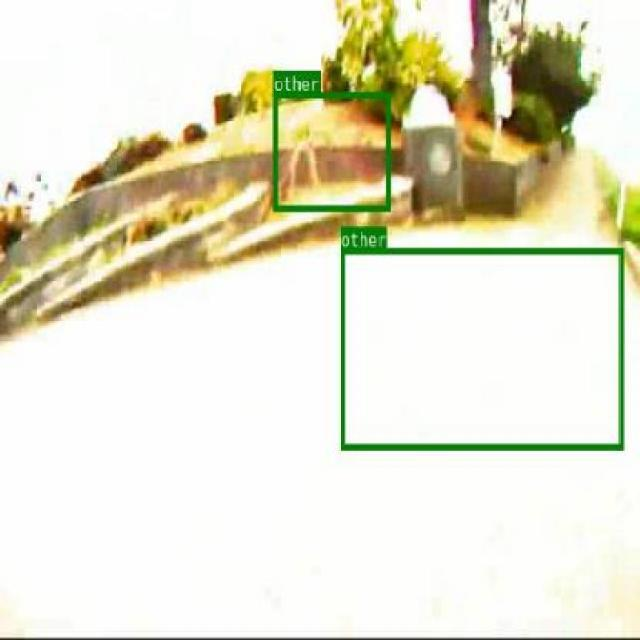other: (340, 248, 622, 449), (272, 91, 390, 210)
